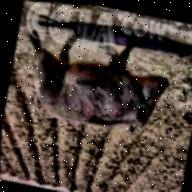boar: (2, 16, 191, 146)
